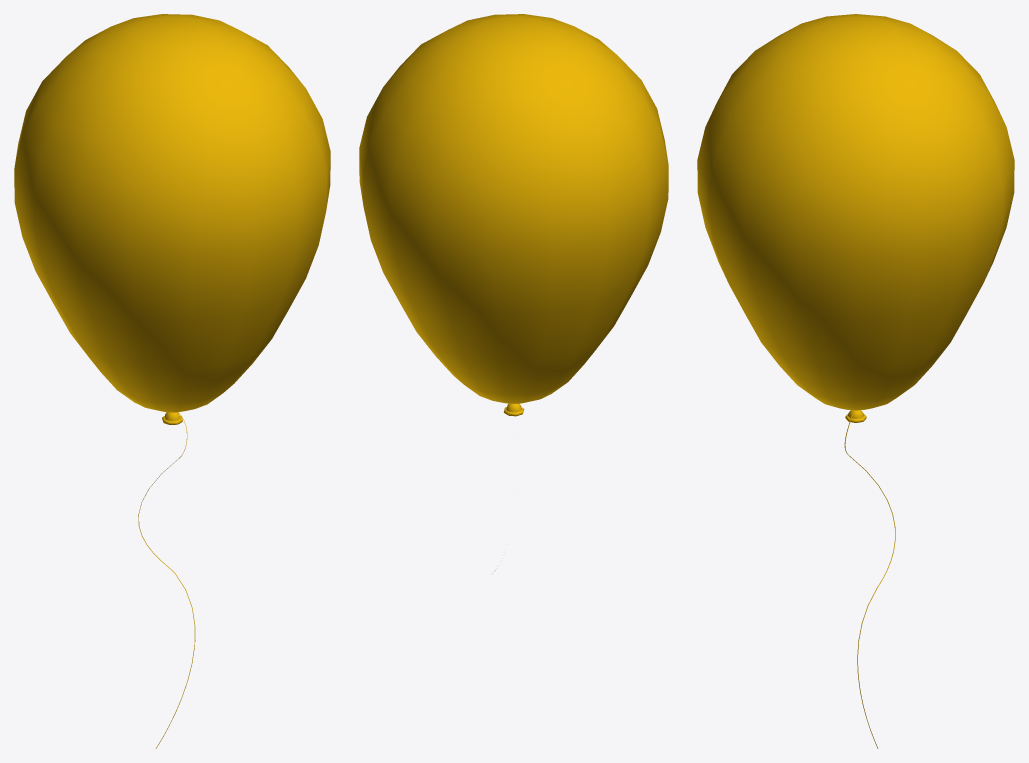
File: balloon_modified.glb
3 views of the same model, side by side, from view 1: azimuth 30°, elevation 25°; view 2: azimuth 150°, elevation 25°; view 3: azimuth 270°, elevation 25° (orthographic). The views are drawn at different scales.
Visible parts, largest first — view 1: Balloon, String; view 2: Balloon; view 3: Balloon, String.
Boxes of the visible parts, bbox=[...] form: Balloon: bbox=[14, 14, 330, 412]; String: bbox=[138, 412, 195, 748]; Balloon: bbox=[359, 14, 668, 403]; Balloon: bbox=[697, 14, 1014, 410]; String: bbox=[844, 410, 895, 748].
Bounding box in the file's own units: 0.2648 × 0.664 × 0.2648.
